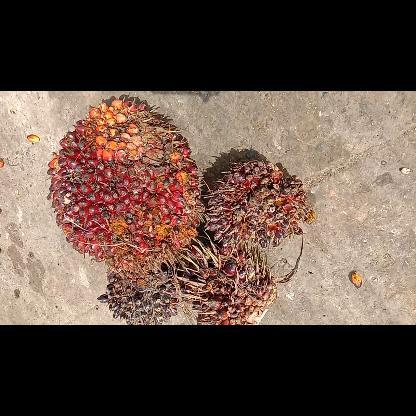TBS abnormal: (206, 158, 316, 260), (181, 240, 279, 324), (94, 244, 182, 324)
TBS masak: (44, 96, 200, 274)
